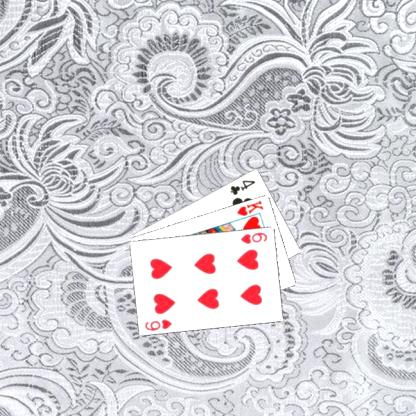4C: (227, 176, 257, 197)
6H: (238, 229, 269, 245), (142, 316, 173, 332)
KH: (235, 197, 264, 217)
